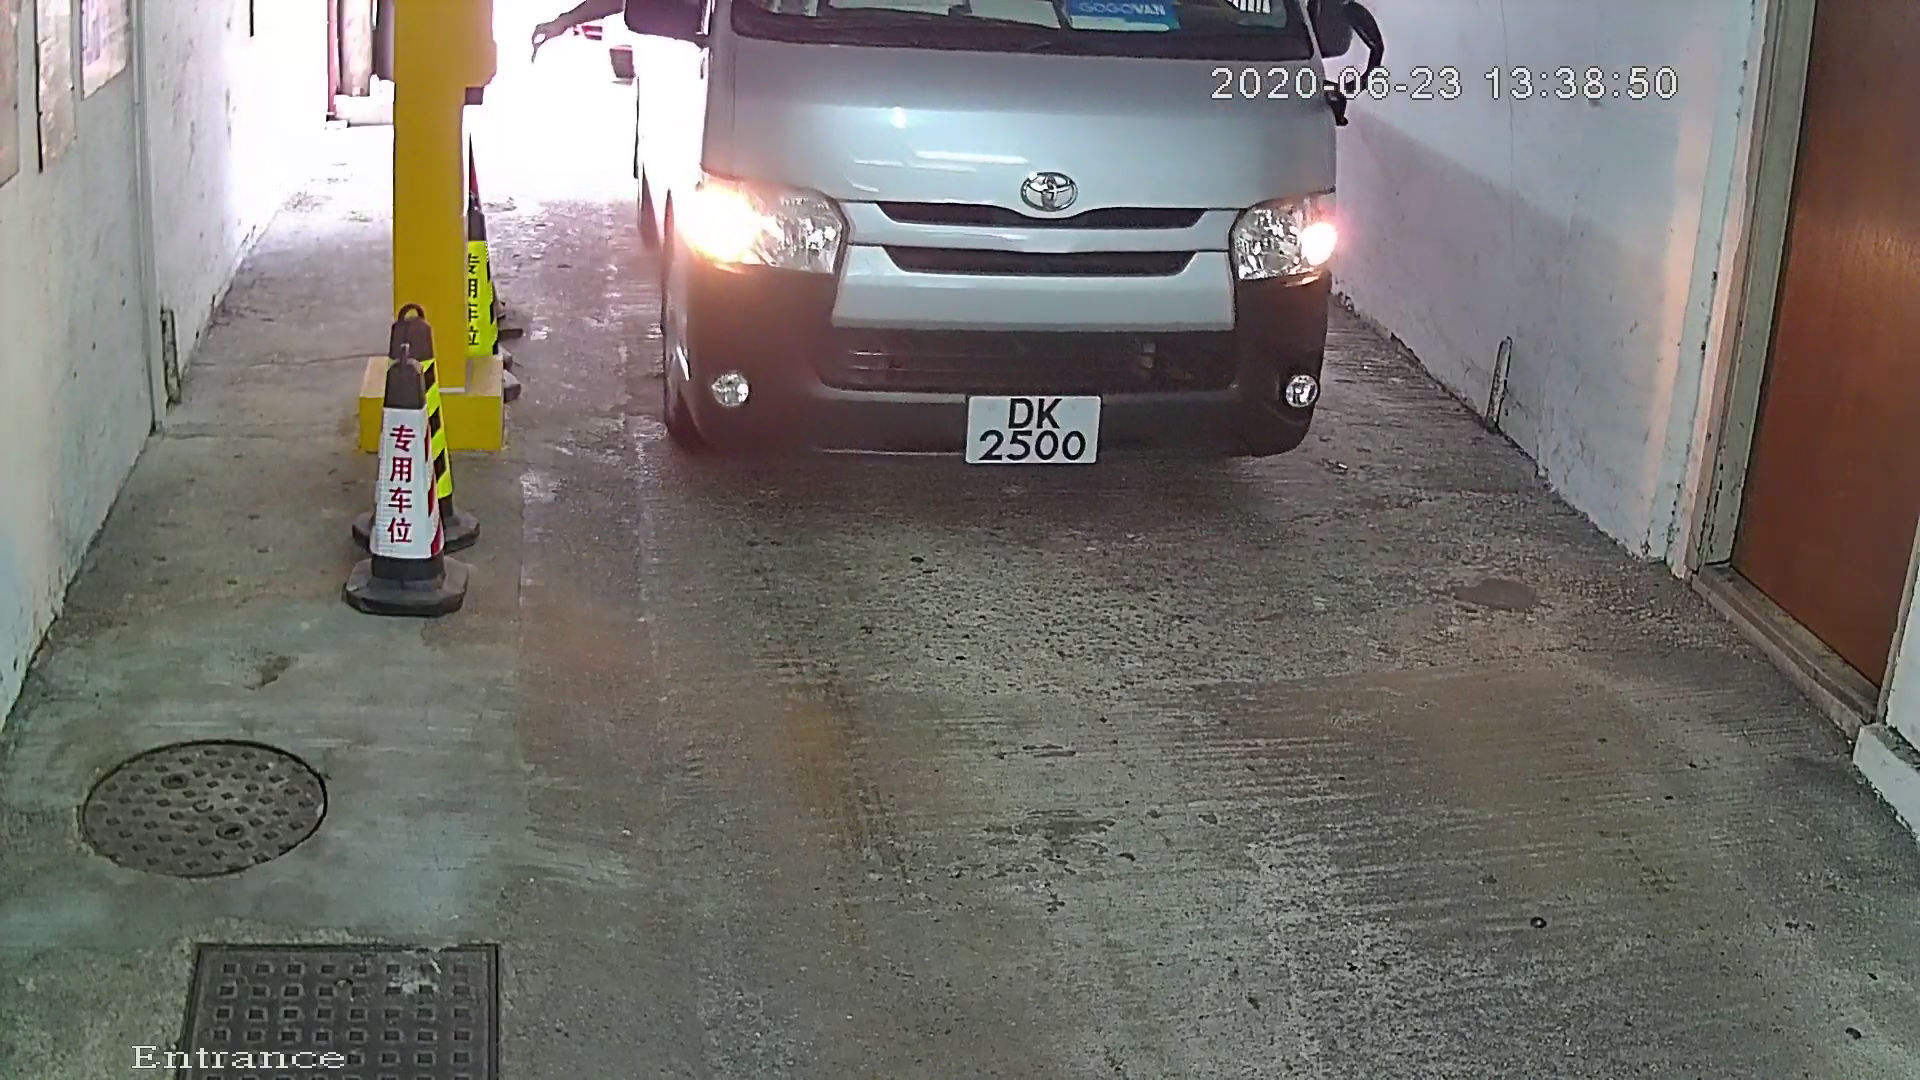van_s: (608, 3, 1389, 525)
